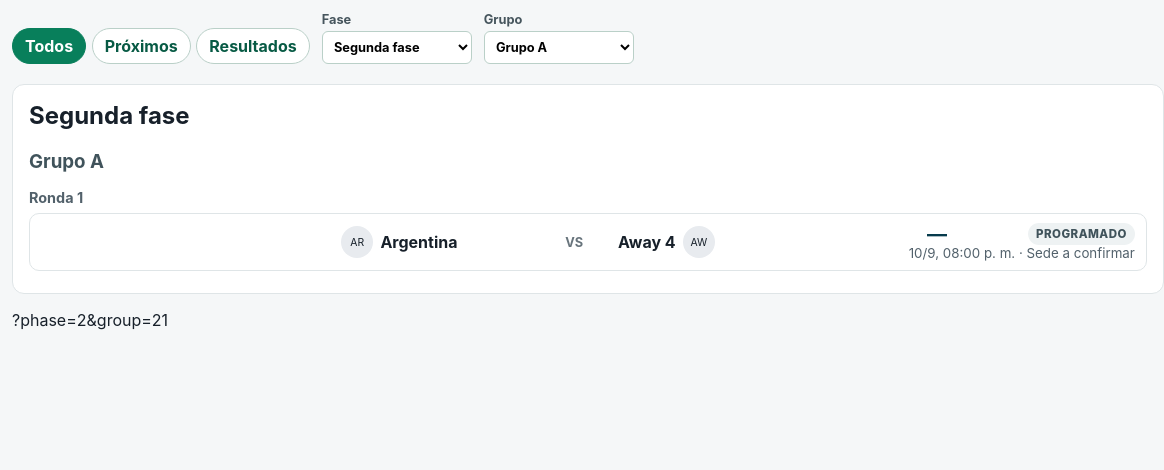
Test case: public fixture and results › filters by phase and resets the selected group when phase changes
Expected: the link with aria-label "Argentina contra Away 4" is shown, [29,214,1147,271]
Select "Regular" in the dropdown labelled "Fase" at (397, 48), box [322,31,472,64]
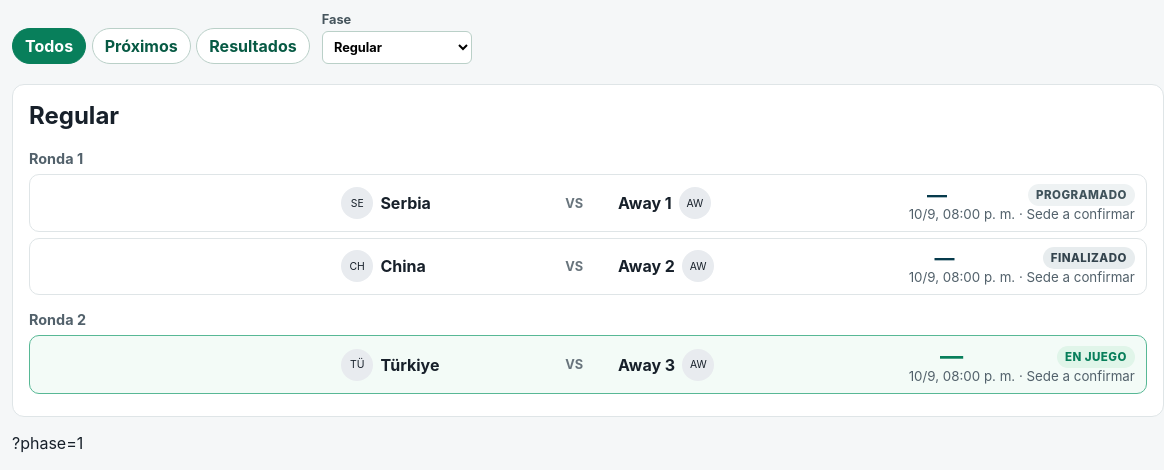
Expected: the link with aria-label "Serbia contra Away 1" is shown, [29,174,1147,232]
Expected: the text with test id "location" reads "?phase=1", [12,433,83,453]
